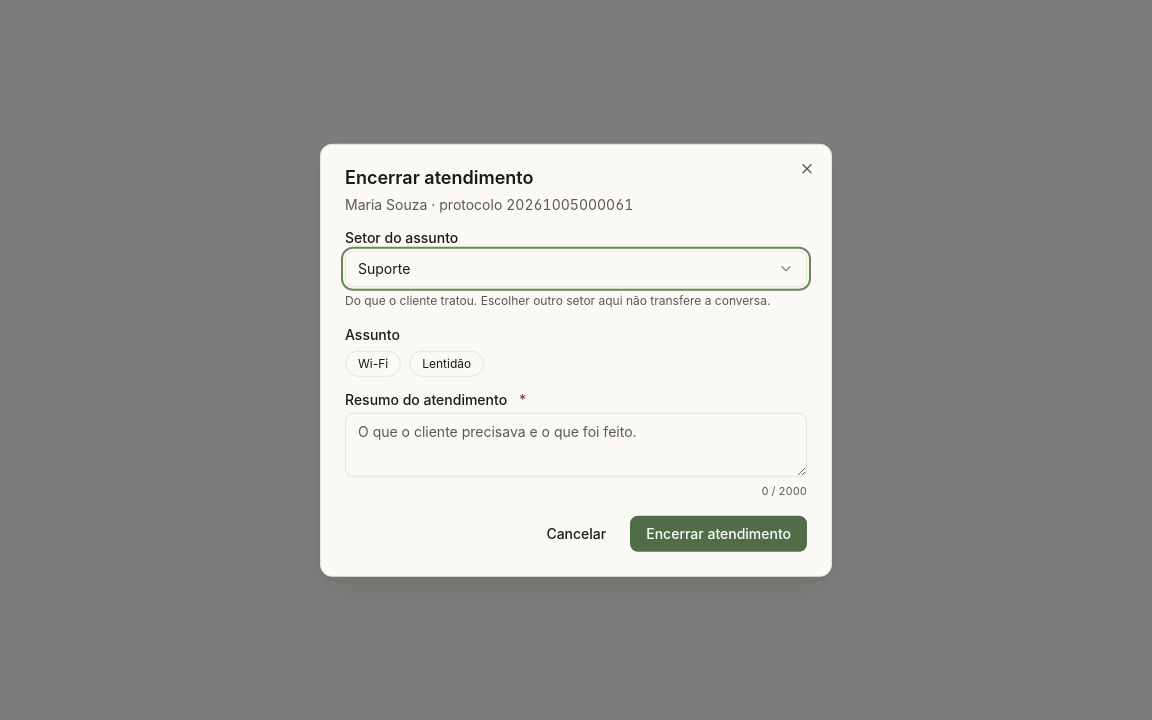
Test case: a janela de encerramento › nove letras não contam como resumo quando ele é exigido
This screenshot has width=1152, height=720.
In the text box with test id "encerramento-resumo": x=576, y=445 [345,413,807,477], type "123456789"
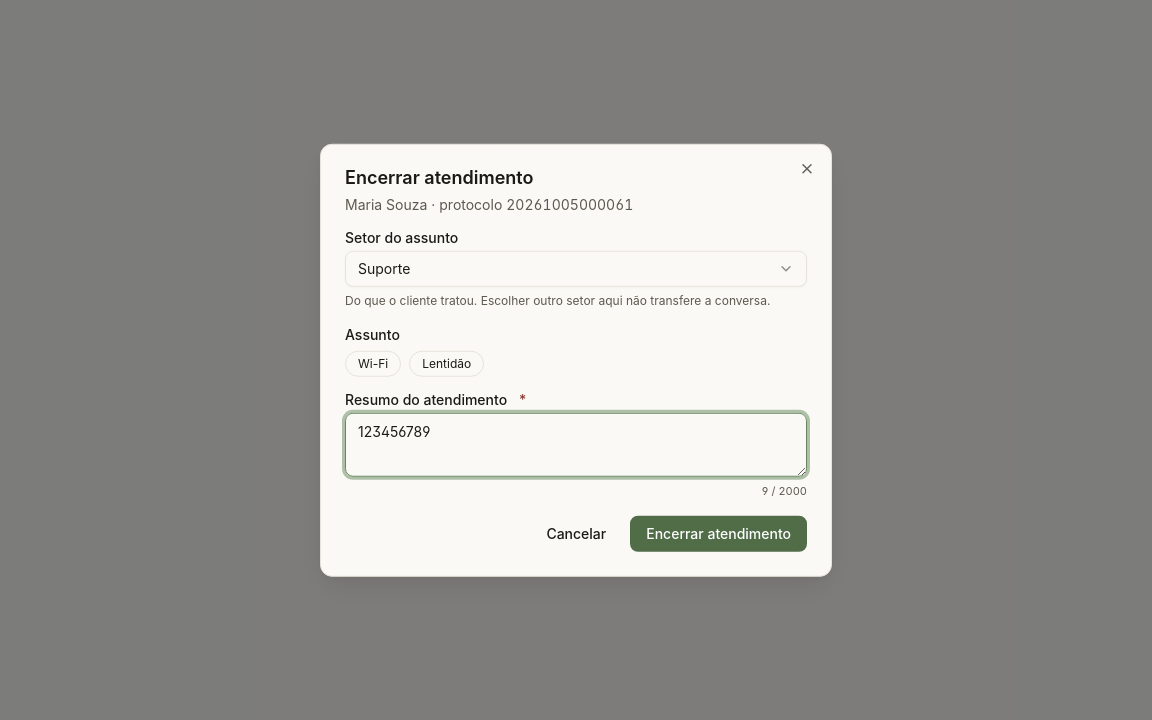
Click the button with test id "encerramento-confirmar": x=719, y=533 [630,515,807,551]
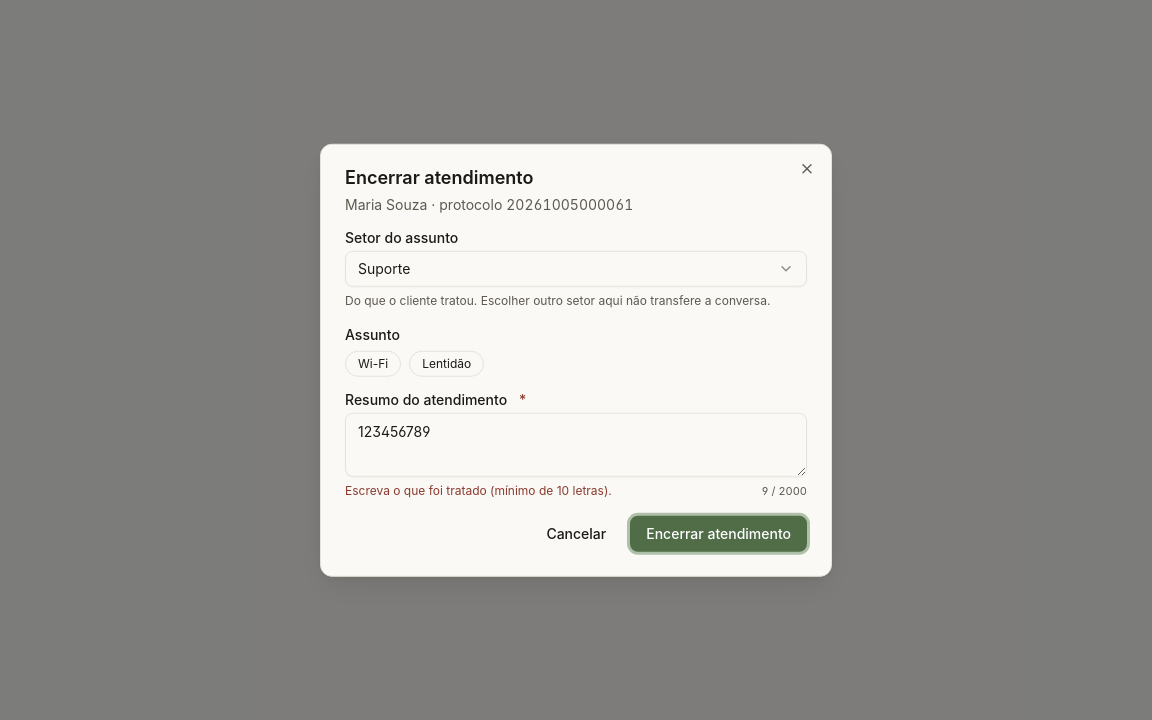
Now the message "Escreva o que foi tratado (mínimo de 10 letras)." is shown, box [345,483,612,499]
